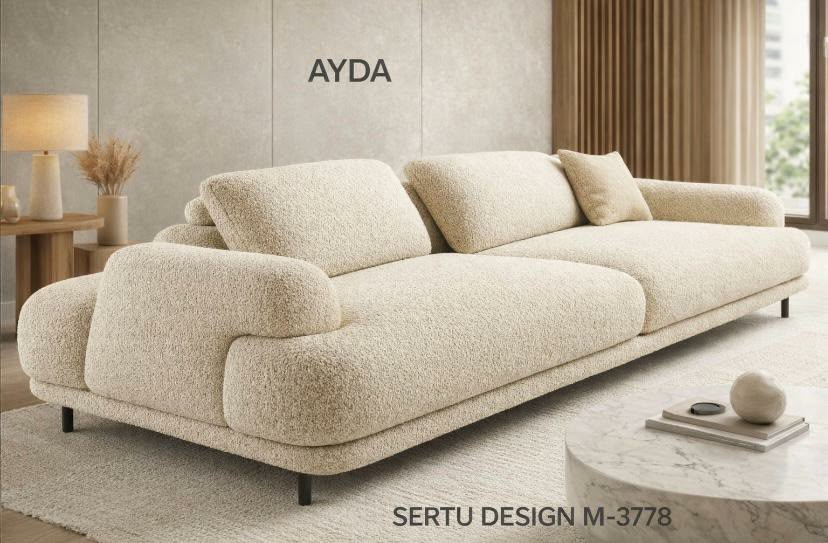3seatersofa: (18, 150, 808, 504)
backrest: (156, 152, 582, 276)
base: (31, 279, 806, 474)
leftarmrest: (636, 179, 783, 225)
leg: (297, 472, 312, 505), (61, 406, 73, 432), (781, 300, 789, 317)
pillow: (559, 150, 652, 225)
rightarmrest: (19, 242, 341, 426)
seat: (224, 221, 808, 443)
